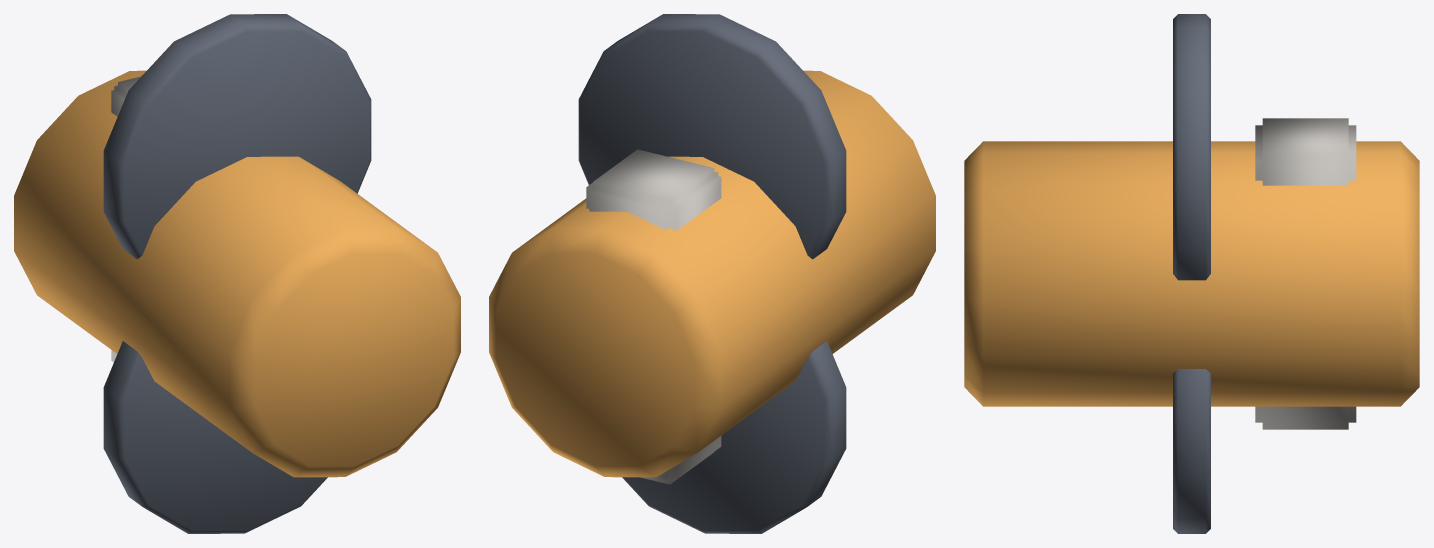
Rendered from flamethrower_tank.glb.
The picture shows the model from 3 angles, left to right: view 1: azimuth 30°, elevation 25°; view 2: azimuth 150°, elevation 25°; view 3: azimuth 270°, elevation 25°; orthographic projection. The views are drawn at different scales.
Visible parts, largest first — view 1: flamethrower_tank; view 2: flamethrower_tank; view 3: flamethrower_tank.
Part boxes in pixels (box(x1,y1,x2,y2)): flamethrower_tank: box(14, 14, 460, 533); flamethrower_tank: box(489, 14, 935, 533); flamethrower_tank: box(964, 14, 1419, 533).
Bounding box in the file's own units: 0.2242 × 0.43 × 0.36.
